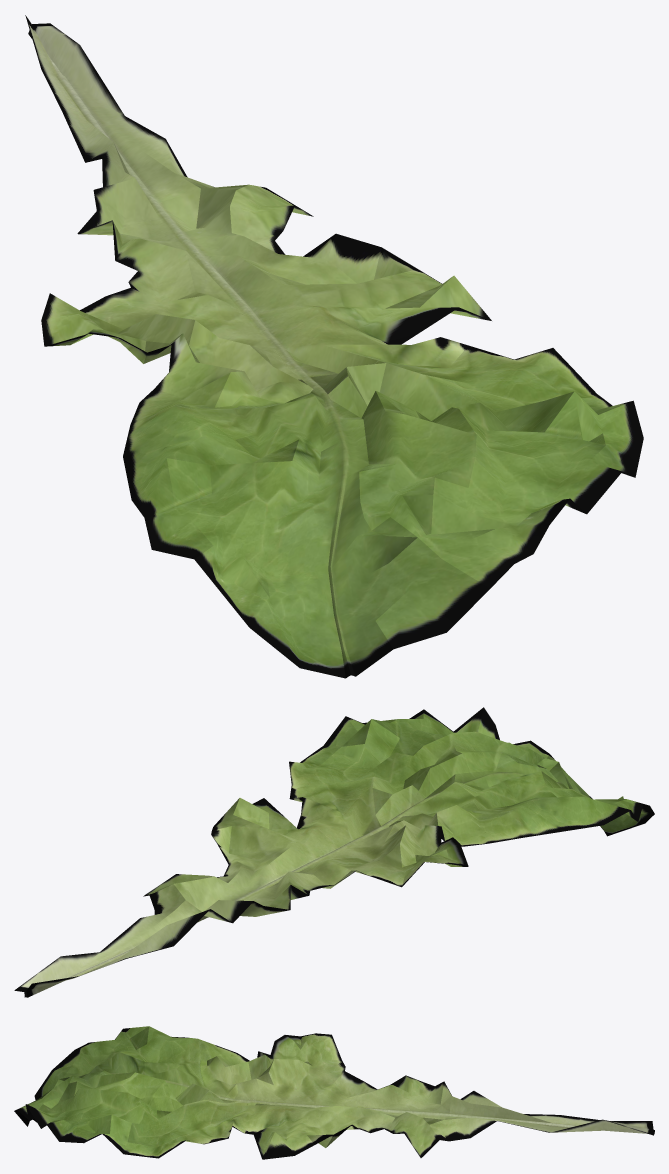
The model's file is Lettuce1.fbx.
The picture shows the model from 3 angles, top to bottom: view 1: azimuth 30°, elevation 25°; view 2: azimuth 150°, elevation 25°; view 3: azimuth 270°, elevation 25°; orthographic projection. The views are drawn at different scales.
Visible parts, largest first — view 1: lettuce2_1_3.001; view 2: lettuce2_1_3.001; view 3: lettuce2_1_3.001.
Part boxes in pixels (left/top/right/bottom): lettuce2_1_3.001: left=25, top=15, right=643, bottom=678; lettuce2_1_3.001: left=14, top=707, right=654, bottom=997; lettuce2_1_3.001: left=14, top=1026, right=654, bottom=1159.
Size of the model in its own units: 5.3 by 1.8 by 12.01.
